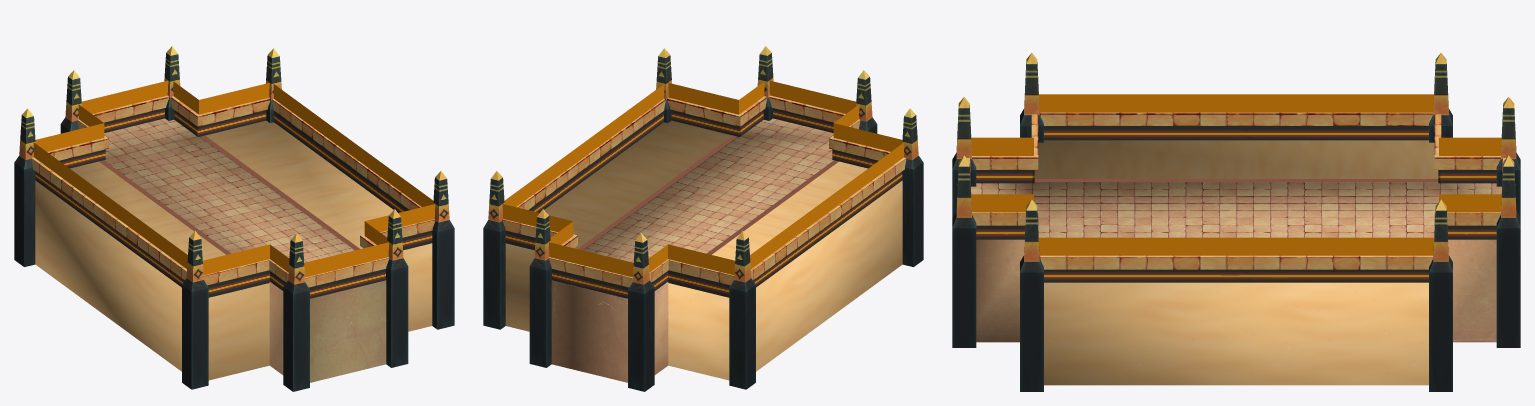
Rendered from Duel_Stage 36.fbx.
3 views of the same model, side by side, from view 1: azimuth 30°, elevation 25°; view 2: azimuth 150°, elevation 25°; view 3: azimuth 270°, elevation 25° (orthographic). The views are drawn at different scales.
Parts seen in each view (by area): view 1: CR_Platform_Cube.015, Cube.099, CR_Platform_Cube.018, Plane.136, CR_Platform_Cube.020; view 2: CR_Platform_Cube.015, Cube.099, CR_Platform_Cube.018, Plane.136, CR_Platform_Cube.020; view 3: CR_Platform_Cube.015, CR_Platform_Cube.018, Cube.099, Plane.136, CR_Platform_Cube.020.
Boxes of the visible parts, bbox=[...] form: CR_Platform_Cube.015: bbox=[35, 118, 432, 382]; Cube.099: bbox=[14, 46, 454, 391]; CR_Platform_Cube.018: bbox=[31, 95, 435, 298]; Plane.136: bbox=[33, 80, 435, 277]; CR_Platform_Cube.020: bbox=[99, 135, 360, 254]; CR_Platform_Cube.015: bbox=[505, 118, 902, 382]; Cube.099: bbox=[483, 46, 923, 391]; CR_Platform_Cube.018: bbox=[502, 95, 906, 298]; Plane.136: bbox=[502, 80, 904, 277]; CR_Platform_Cube.020: bbox=[577, 135, 838, 254]; CR_Platform_Cube.015: bbox=[971, 140, 1501, 385]; CR_Platform_Cube.018: bbox=[967, 112, 1505, 282]; Cube.099: bbox=[952, 53, 1520, 391]; Plane.136: bbox=[971, 94, 1501, 255]; CR_Platform_Cube.020: bbox=[1034, 179, 1438, 181].
Bounding box in the file's own units: 3276 × 2221 × 5018.
